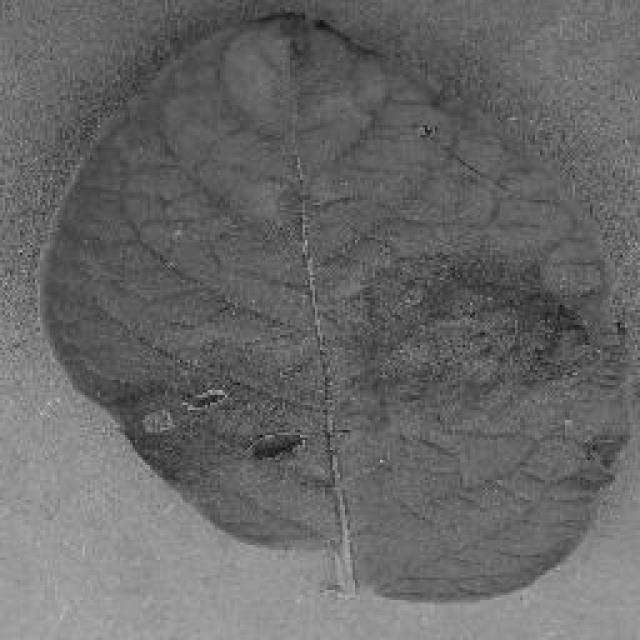Potato: (32, 8, 632, 602)
